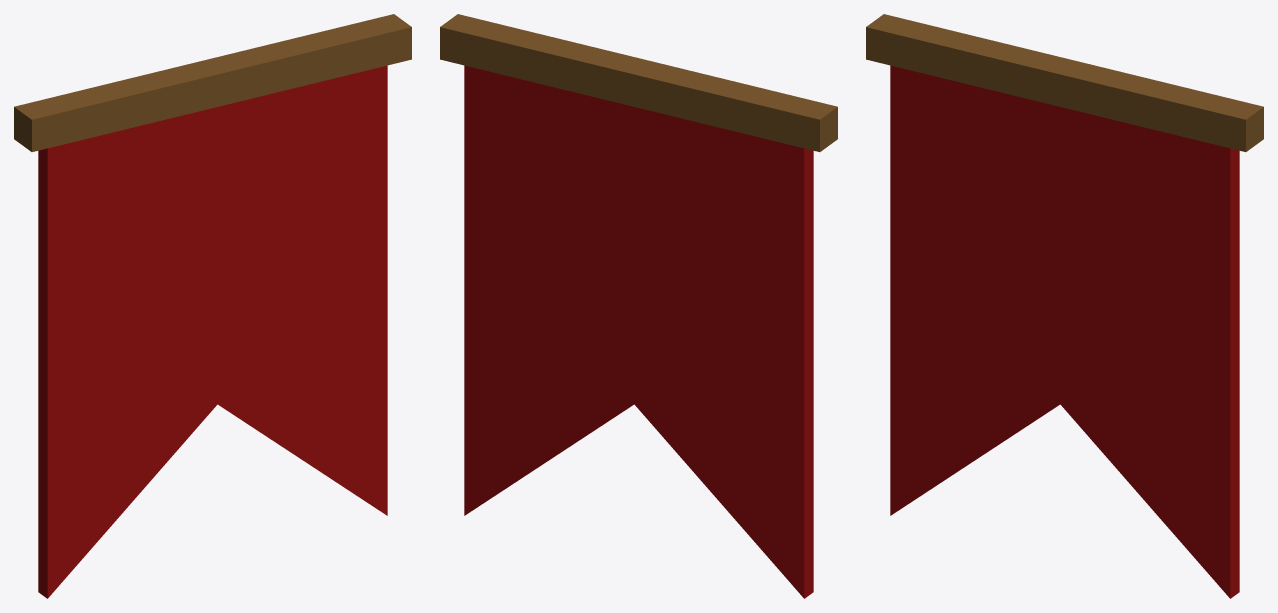
The model's file is vikingflag.fbx.
3 renders of one model, left to right at view 1: azimuth 30°, elevation 25°; view 2: azimuth 150°, elevation 25°; view 3: azimuth 330°, elevation 25°, orthographic.
Parts seen in each view (by area): view 1: pCube12; view 2: pCube12; view 3: pCube12.
Part boxes in pixels (x1,y1,x2,y2): pCube12: (14, 14, 411, 598); pCube12: (440, 14, 837, 598); pCube12: (866, 14, 1263, 598).
Size of the model in its own units: 25.03 by 30.66 by 2.04.
Materials: 1 (1 with a texture image).
